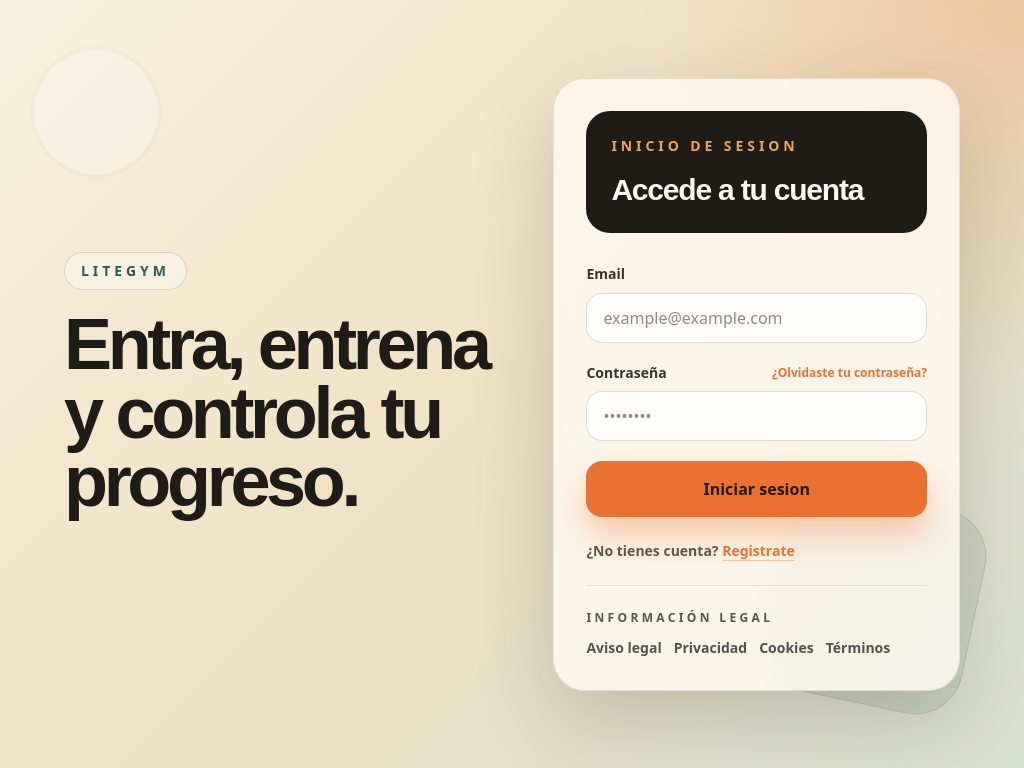
Scenario: LoginPage › shows the backend error when login fails
Type "raul@example.com" into the field labelled "Email".
click(757, 318); type("raul@example.com")  # box [586, 292, 927, 342]
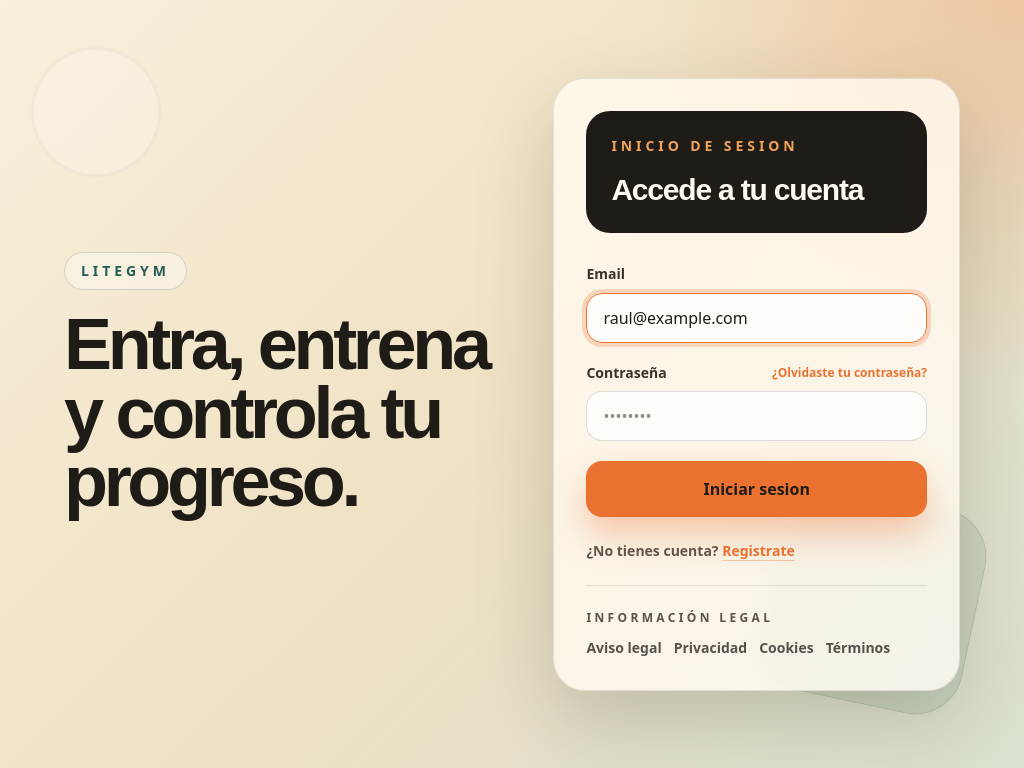
Type "secret123" into the password field with placeholder "••••••••".
click(757, 416); type("secret123")  # box [586, 390, 927, 440]
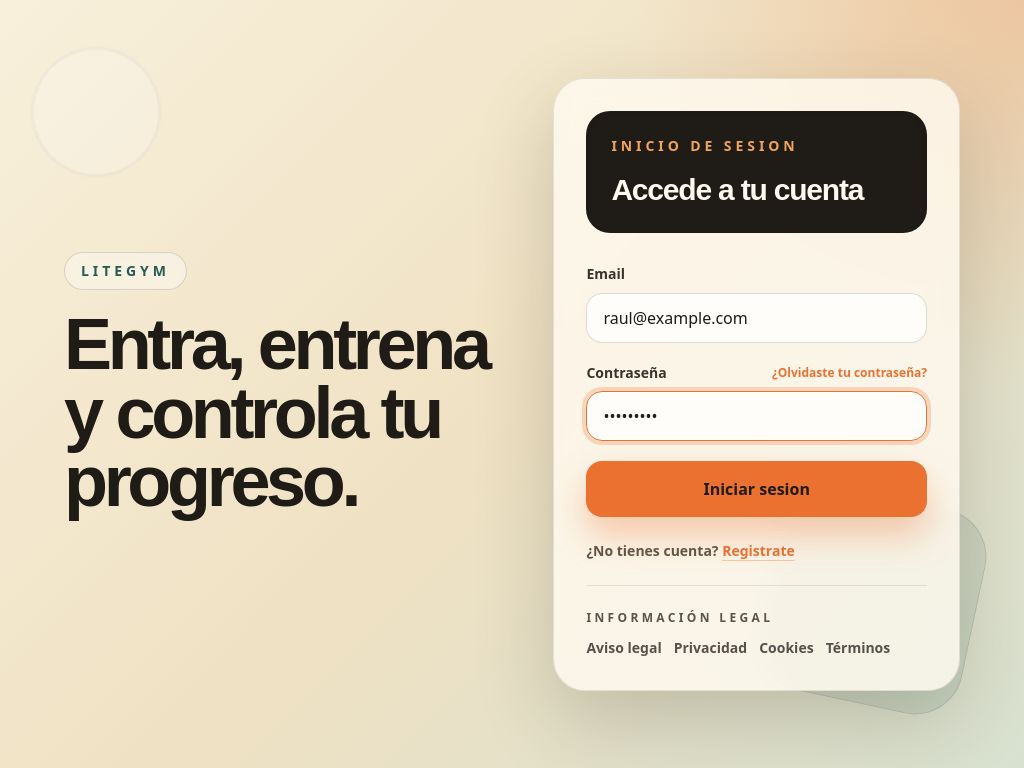
Click the button "Iniciar sesion".
click(757, 488)  # box [586, 460, 927, 516]
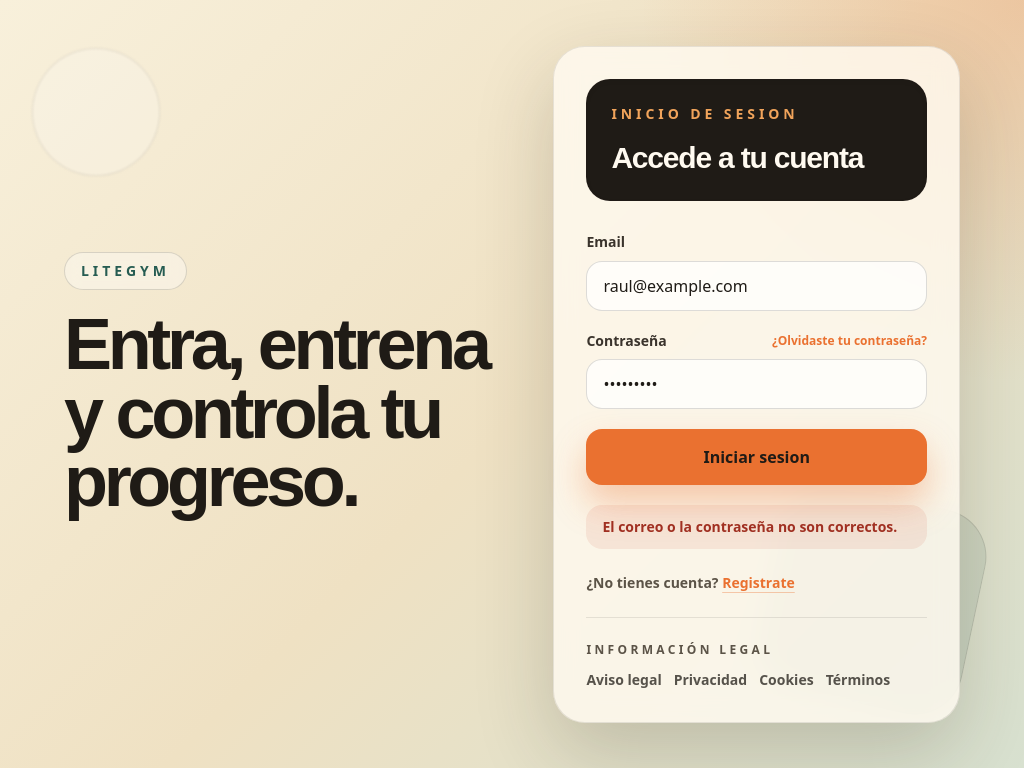
Expected: the text "El correo o la contraseña no son correctos." is shown, [602, 516, 911, 536]
